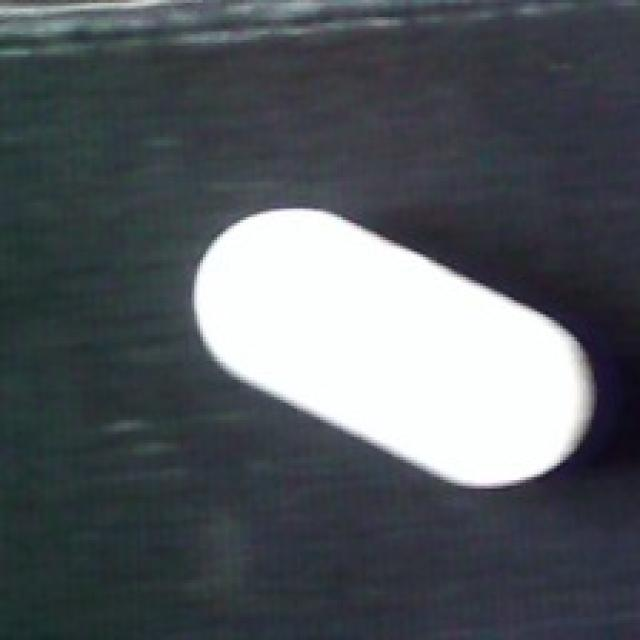no-defect: (186, 205, 600, 494)
